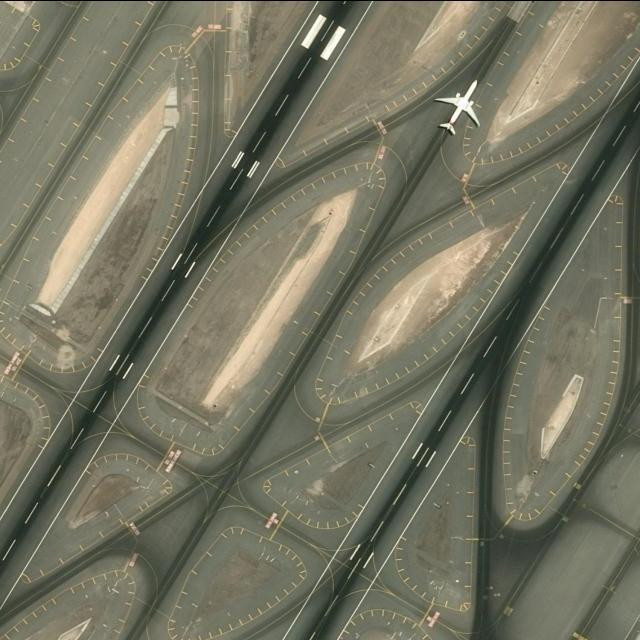Aircraft: (433, 77, 486, 137)
